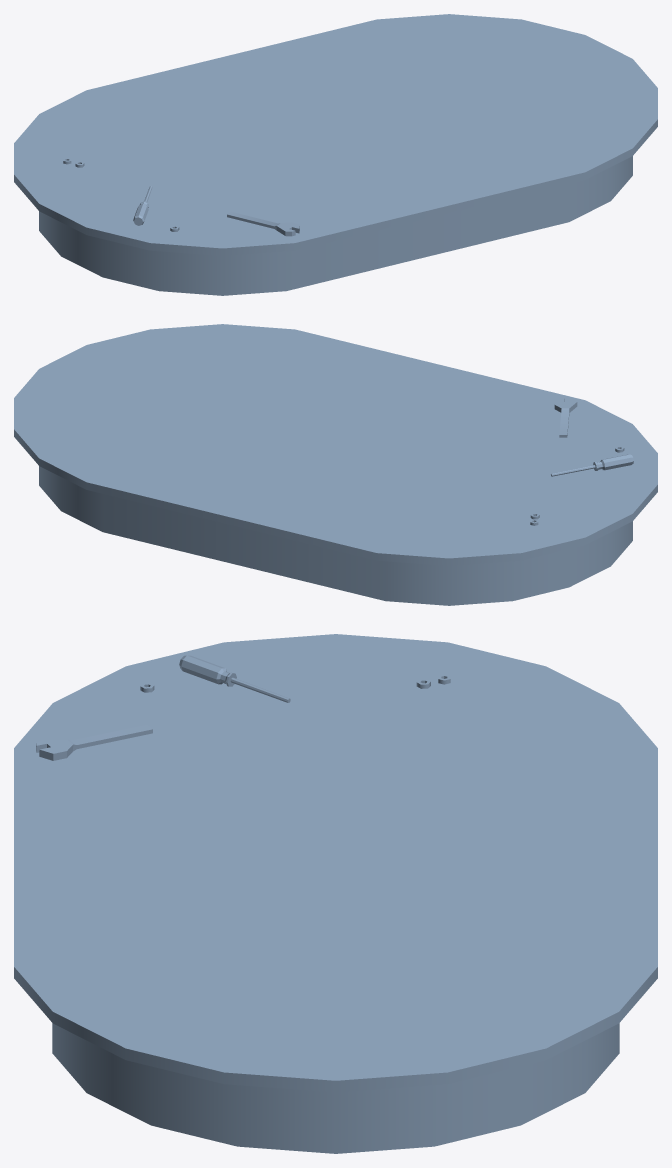
The model's file is SM_Socle.fbx.
3 renders of one model, top to bottom at view 1: azimuth 30°, elevation 25°; view 2: azimuth 150°, elevation 25°; view 3: azimuth 270°, elevation 25°, orthographic. The views are drawn at different scales.
Parts seen in each view (by area): view 1: GARAGE; view 2: GARAGE; view 3: GARAGE.
Boxes of the visible parts, box(x1,y1,x2,y2) form: GARAGE: box(14, 14, 657, 295); GARAGE: box(14, 324, 657, 605); GARAGE: box(14, 634, 657, 1153).
Bounding box in the file's own units: 1519 × 170 × 925.
